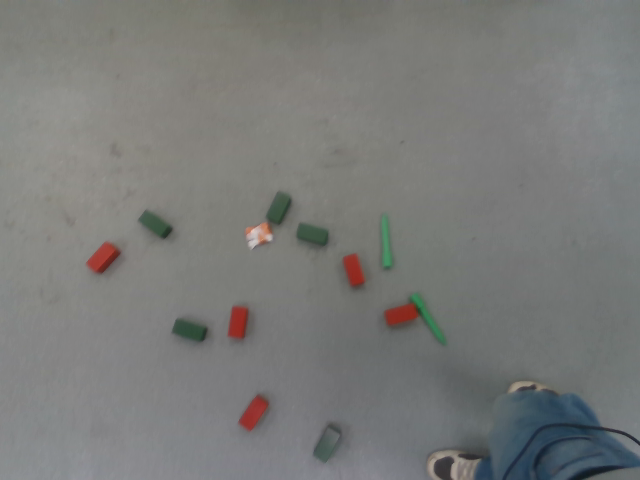Probe: (408, 290, 449, 348), (379, 211, 396, 269)
